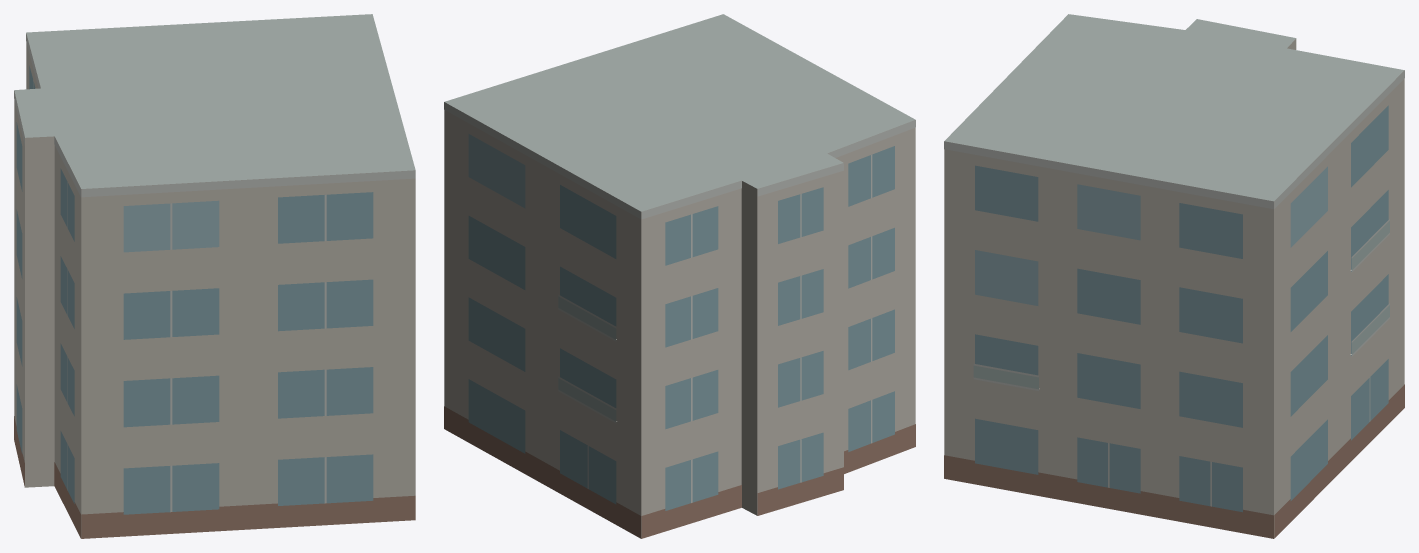
File: survey-upis-33037849.glb
3 views of the same model, side by side, from view 1: azimuth 30°, elevation 25°; view 2: azimuth 150°, elevation 25°; view 3: azimuth 270°, elevation 25° (orthographic). The views are drawn at different scales.
Parts seen in each view (by area): view 1: survey-upis-33037849.tmp; view 2: survey-upis-33037849.tmp; view 3: survey-upis-33037849.tmp.
Part boxes in pixels (<box>): survey-upis-33037849.tmp: <box>14,14,415,538</box>; survey-upis-33037849.tmp: <box>444,14,915,538</box>; survey-upis-33037849.tmp: <box>944,14,1404,538</box>.
Bounding box in the file's own units: 12.27 × 10.3 × 12.75.
